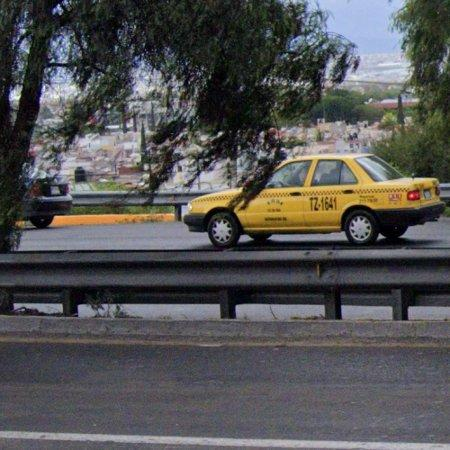taxis: (184, 155, 446, 248)
